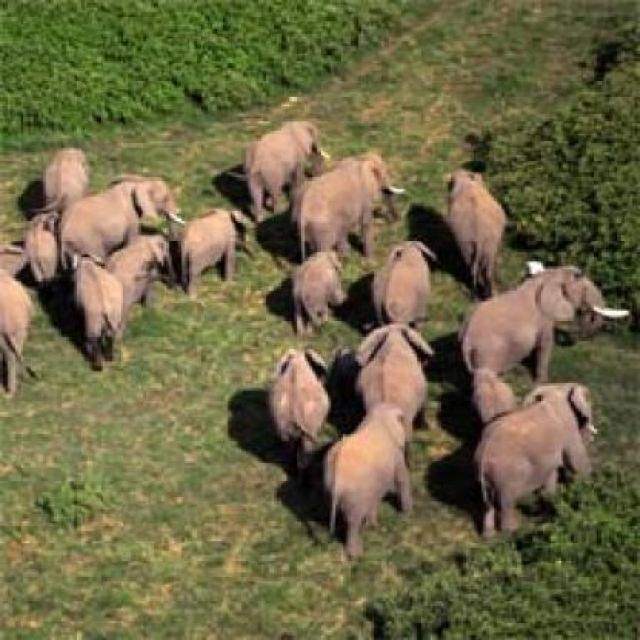elephant: (477, 371, 597, 526), (462, 235, 607, 360), (324, 393, 448, 532), (303, 142, 425, 245), (440, 168, 514, 298), (347, 308, 430, 423), (358, 236, 452, 336), (242, 348, 347, 432), (61, 165, 170, 243), (229, 122, 325, 208), (170, 189, 258, 276), (55, 268, 130, 369), (273, 245, 339, 333), (109, 223, 183, 294), (9, 210, 85, 276), (34, 134, 86, 215), (468, 350, 518, 418)
